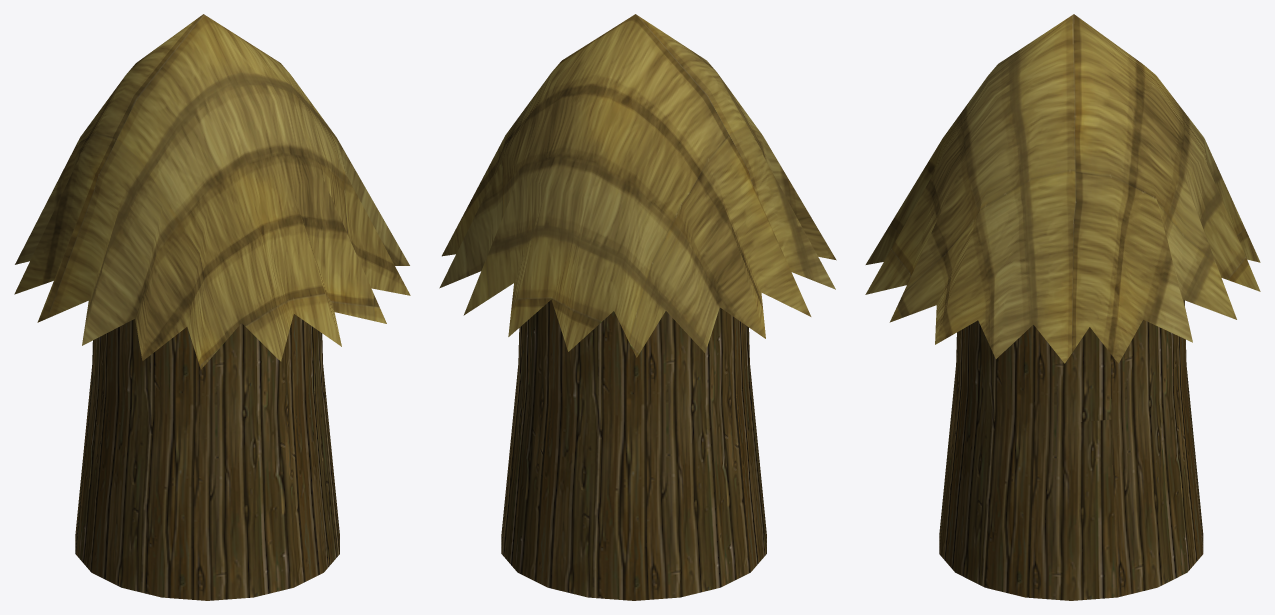
File: home02.fbx
The picture shows the model from 3 angles, left to right: view 1: azimuth 30°, elevation 25°; view 2: azimuth 150°, elevation 25°; view 3: azimuth 270°, elevation 25°; orthographic projection.
Visible parts, largest first — view 1: home02:Object001; view 2: home02:Object001; view 3: home02:Object001.
Boxes of the visible parts, x1=… form: home02:Object001: x1=14, y1=14, x2=410, y2=600; home02:Object001: x1=439, y1=14, x2=836, y2=600; home02:Object001: x1=865, y1=14, x2=1260, y2=600.
Bounding box in the file's own units: 110 × 160 × 108.
